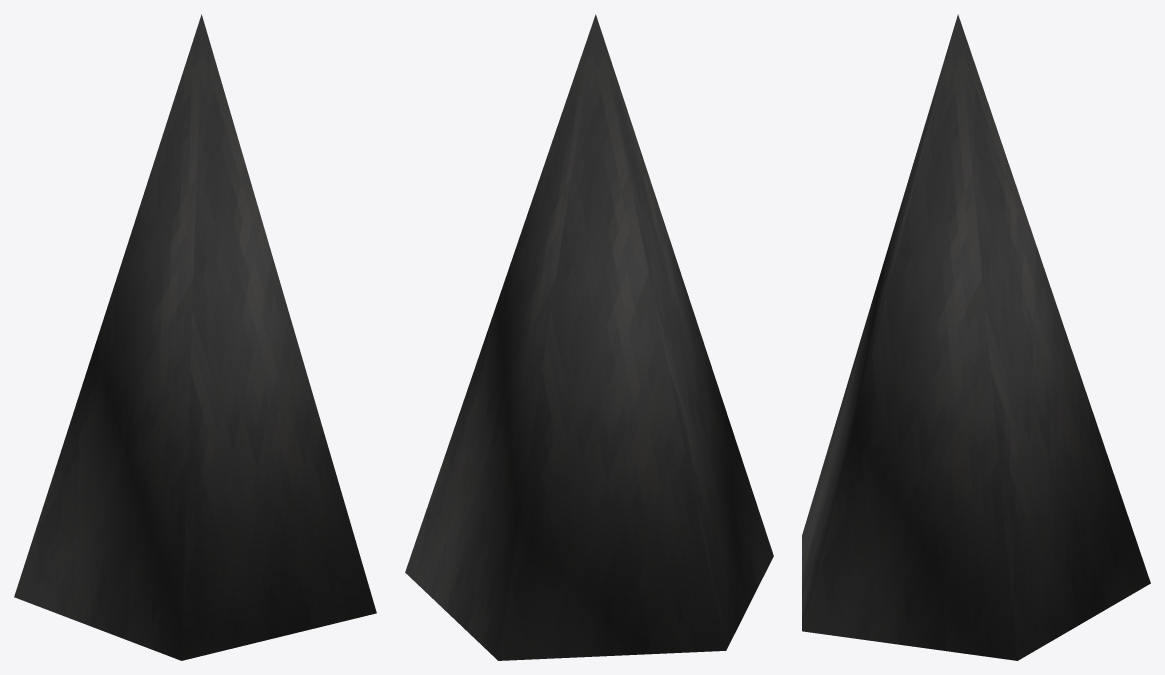
The model's file is stalactite_01.glb.
The picture shows the model from 3 angles, left to right: view 1: azimuth 30°, elevation 25°; view 2: azimuth 150°, elevation 25°; view 3: azimuth 270°, elevation 25°; orthographic projection.
Visible parts, largest first — view 1: stalactite; view 2: stalactite; view 3: stalactite.
Boxes of the visible parts, x1=… form: stalactite: x1=14, y1=14, x2=376, y2=660; stalactite: x1=405, y1=14, x2=773, y2=660; stalactite: x1=802, y1=14, x2=1150, y2=660.
Size of the model in its own units: 1.53 by 2.63 by 1.46.
1 material, 1 textured.
